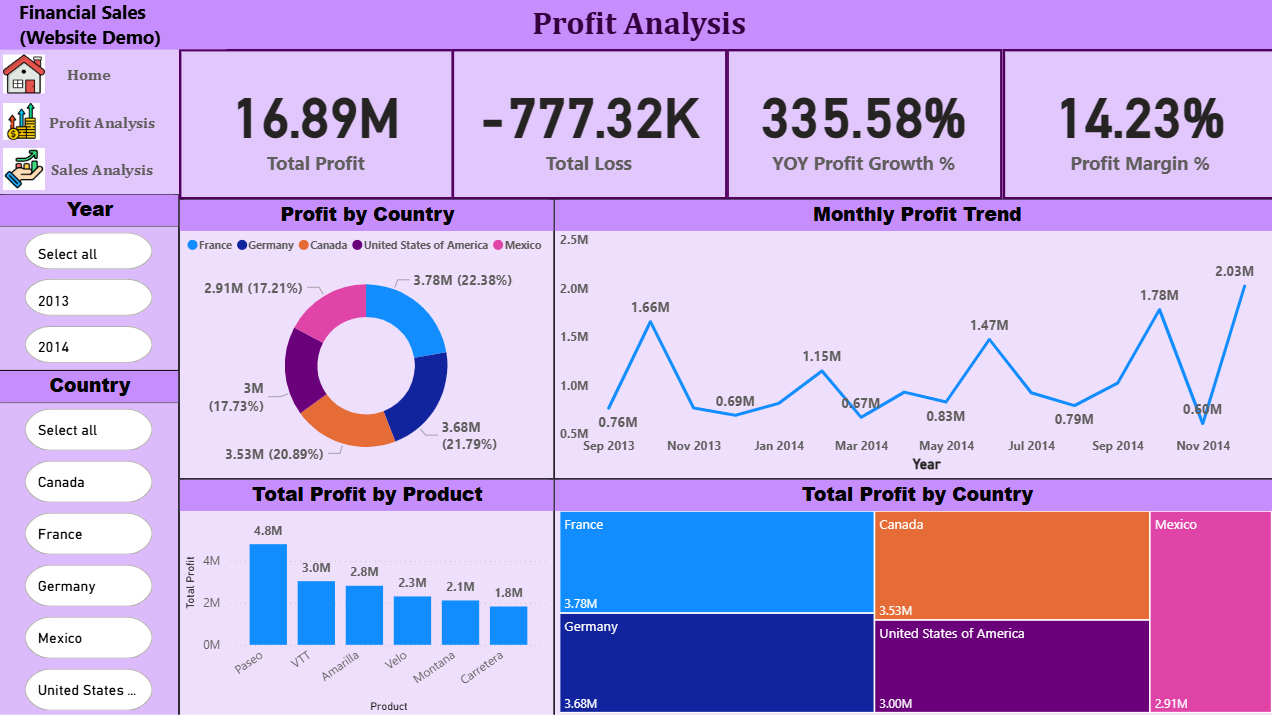

The dashboard page shown, as its layout file describes it:
{"tool":"powerbi","page":{"name":"Profit Analysis","canvas":[1280,720],"ordinal":11},"visuals":[{"type":"shape","box":[0,50,180,670],"z":0},{"type":"textbox","box":[0,0,1280,50],"z":1000},{"type":"card","fields":{"Values":["financials.YOY Profit Growth %"]},"box":[728,50,276,150],"z":2000},{"type":"card","fields":{"Values":["financials.Total Profit"]},"box":[180,50,275,150],"z":3000},{"type":"card","fields":{"Values":["financials.Total Loss"]},"box":[452,50,276,150],"z":4000},{"type":"card","fields":{"Values":["financials.Profit Margin %"]},"box":[1004,50,276,150],"z":5000},{"type":"actionButton","box":[0,50,180,50],"z":6000},{"type":"actionButton","box":[0,100,180,45],"z":7000},{"type":"actionButton","box":[0,145,180,50],"z":8000},{"type":"donutChart","title":"Profit by Country","fields":{"Category":["financials.Country"],"Y":["Sum(financials.Profit)"]},"box":[180,200,375,280],"z":10000},{"type":"lineChart","title":"Monthly Profit Trend","fields":{"Category":["financials.Date.Variation.Date Hierarchy.Year","financials.Date.Variation.Date Hierarchy.Month"],"Y":["Sum(financials.Profit)"]},"box":[555,200,725,280],"z":11000},{"type":"clusteredColumnChart","fields":{"Category":["financials.Product"],"Y":["financials.Total Profit"]},"box":[180,480,375,240],"z":12000},{"type":"treemap","title":"Total Profit by Country","fields":{"Group":["financials.Country"],"Values":["Sum(financials.Profit)"]},"box":[555,480,725,240],"z":13000},{"type":"advancedSlicerVisual","fields":{"Values":["financials.Date.Variation.Date Hierarchy.Year"]},"box":[0,195,180,176.7],"z":14000},{"type":"advancedSlicerVisual","fields":{"Values":["financials.Country"]},"box":[0,371.7,180,348.3],"z":15000},{"type":"shape","box":[0,0,227,50],"z":16501}]}

Visuals, with their boxes in screenshot pixels (x1, y1, x2, y2), scaled from the page's 1280x720 canvas onto the 1272x715 screenshot:
shape: bbox=[0, 50, 179, 714]
textbox: bbox=[0, 0, 1271, 50]
card - financials.YOY Profit Growth %: bbox=[723, 50, 998, 199]
card - financials.Total Profit: bbox=[179, 50, 452, 199]
card - financials.Total Loss: bbox=[449, 50, 723, 199]
card - financials.Profit Margin %: bbox=[998, 50, 1271, 199]
actionButton: bbox=[0, 50, 179, 99]
actionButton: bbox=[0, 99, 179, 144]
actionButton: bbox=[0, 144, 179, 194]
"Profit by Country" donutChart: bbox=[179, 199, 552, 477]
"Monthly Profit Trend" lineChart: bbox=[552, 199, 1271, 477]
clusteredColumnChart - financials.Product x financials.Total Profit: bbox=[179, 477, 552, 714]
"Total Profit by Country" treemap: bbox=[552, 477, 1271, 714]
advancedSlicerVisual - financials.Date.Variation.Date Hierarchy.Year: bbox=[0, 194, 179, 369]
advancedSlicerVisual - financials.Country: bbox=[0, 369, 179, 714]
shape: bbox=[0, 0, 226, 50]
